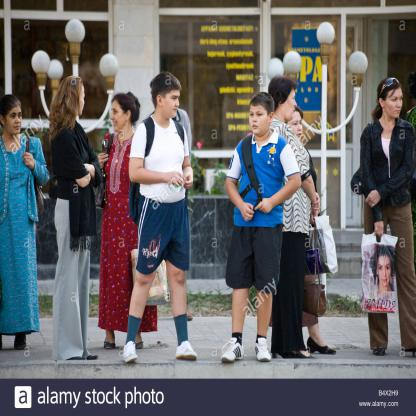Not_Wearing_Mask: (385, 90, 402, 120), (249, 108, 266, 135), (282, 88, 296, 120), (164, 90, 179, 119), (110, 104, 126, 131), (291, 116, 306, 140), (10, 109, 22, 134), (79, 82, 87, 119)
